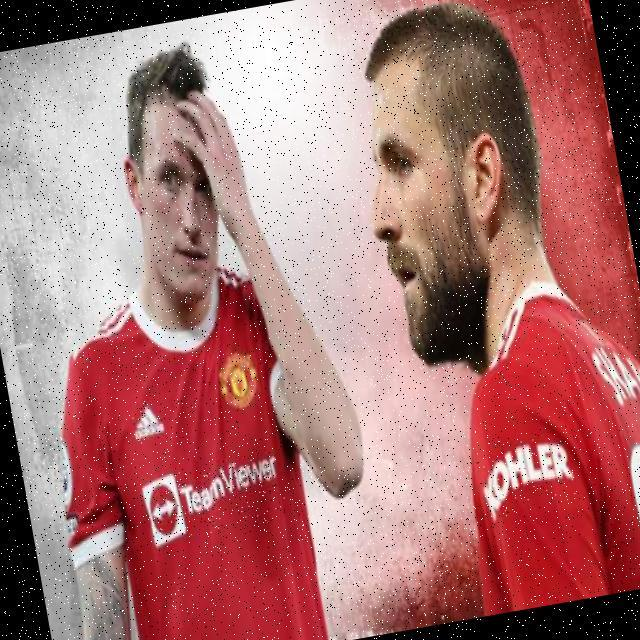Adidas: (130, 403, 169, 444)
Kohler: (474, 433, 581, 520)
TeamViewer: (141, 455, 288, 543)
